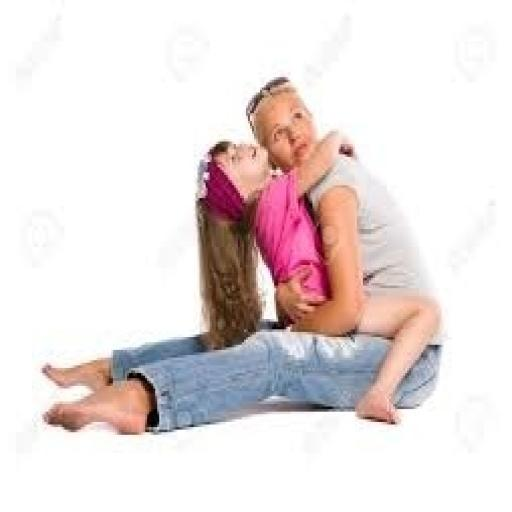hugging: (36, 74, 446, 438)
